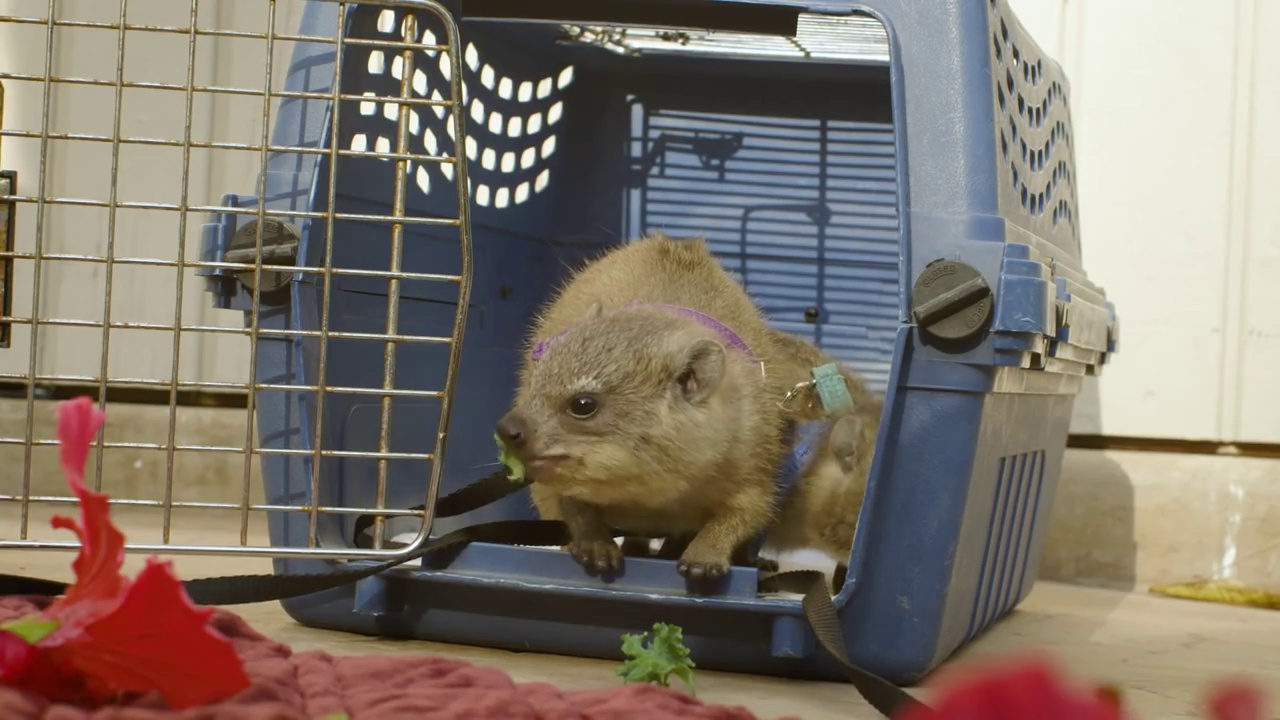Rock Hyrex: (501, 235, 791, 589)
